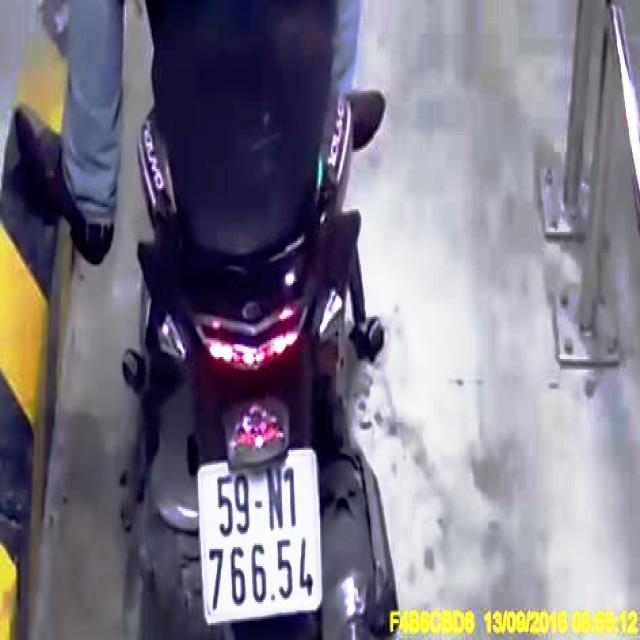license_plate: (197, 451, 324, 628)
